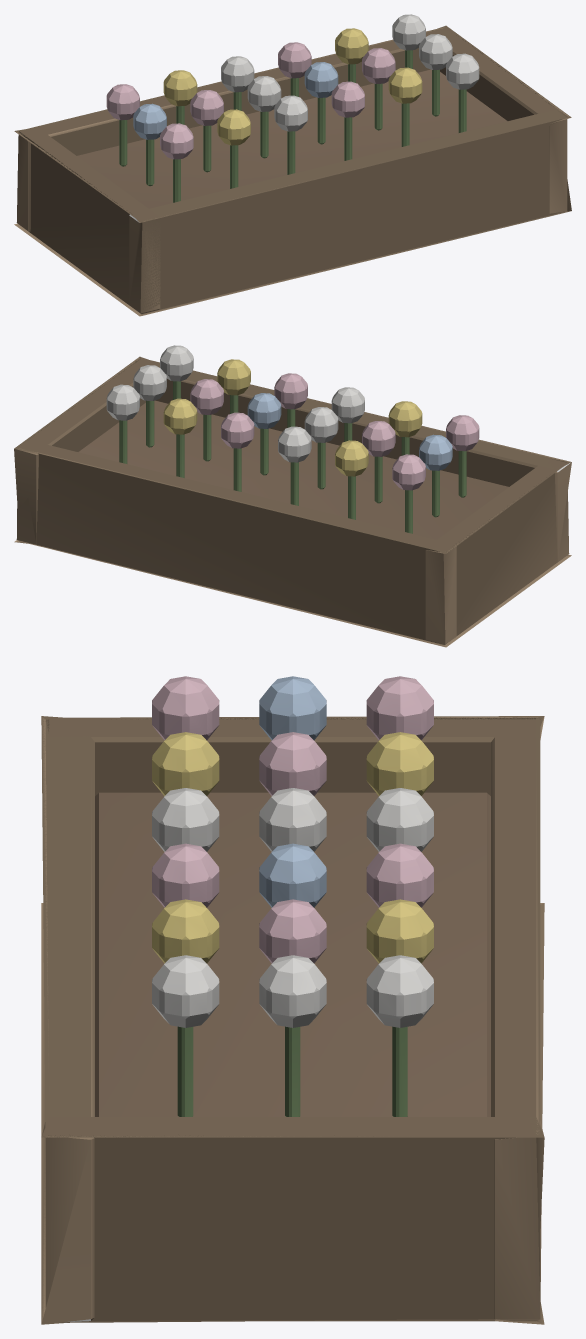
File: flowerbed.glb
The picture shows the model from 3 angles, top to bottom: view 1: azimuth 30°, elevation 25°; view 2: azimuth 150°, elevation 25°; view 3: azimuth 270°, elevation 25°; orthographic projection. The views are drawn at different scales.
Size of the model in its own units: 1.21 by 0.395 by 0.61.
